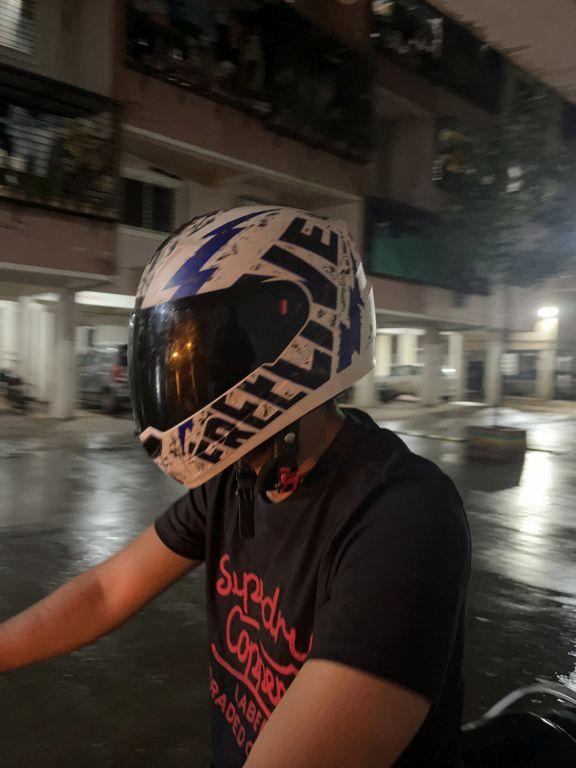helmet: (120, 185, 388, 505)
